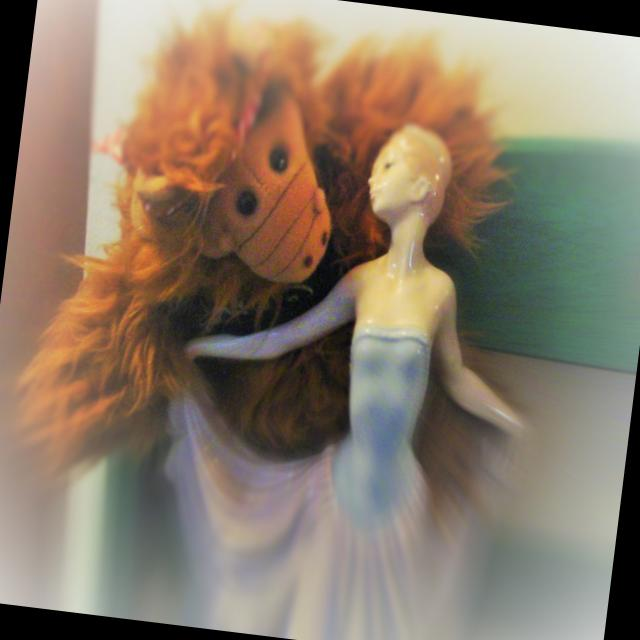Toy: (0, 0, 539, 535)
